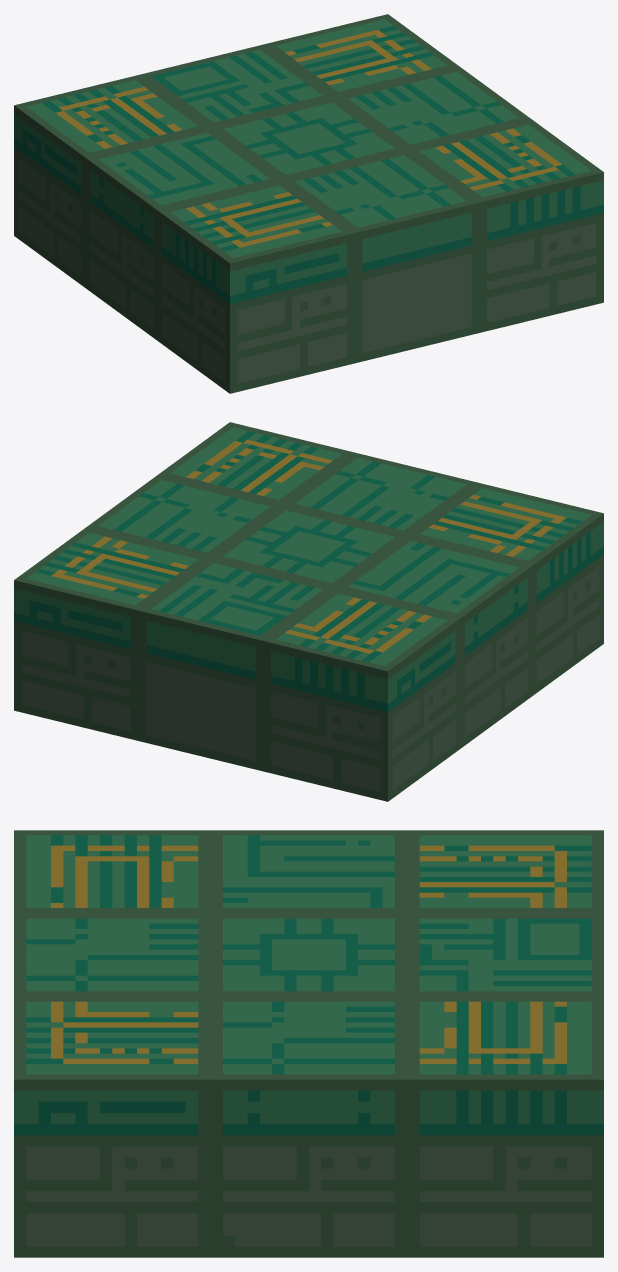
File: m_tiles_2_3x3.fbx
3 renders of one model, top to bottom at view 1: azimuth 30°, elevation 25°; view 2: azimuth 150°, elevation 25°; view 3: azimuth 270°, elevation 25°, orthographic. The views are drawn at different scales.
Parts seen in each view (by area): view 1: m_tiles_2_3x3; view 2: m_tiles_2_3x3; view 3: m_tiles_2_3x3.
Boxes of the visible parts, <box> form: m_tiles_2_3x3: <box>14,14,603,393</box>; m_tiles_2_3x3: <box>14,422,603,801</box>; m_tiles_2_3x3: <box>14,830,603,1257</box>.
Bounding box in the file's own units: 4.8 × 1.6 × 4.8.
Materials: 1 (1 with a texture image).
